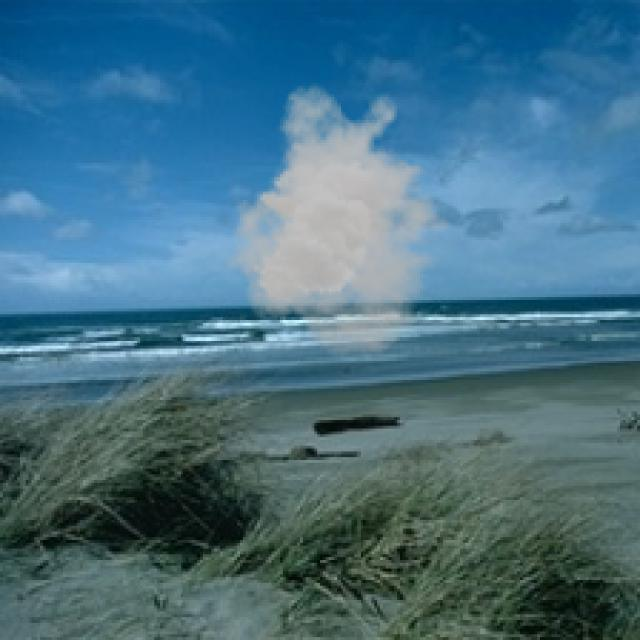Smoke: (226, 82, 463, 358)
